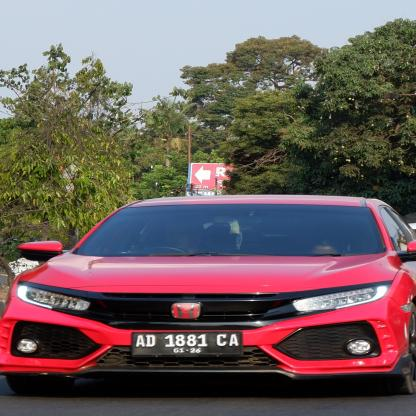Plat-Nomor: (124, 328, 244, 362)
